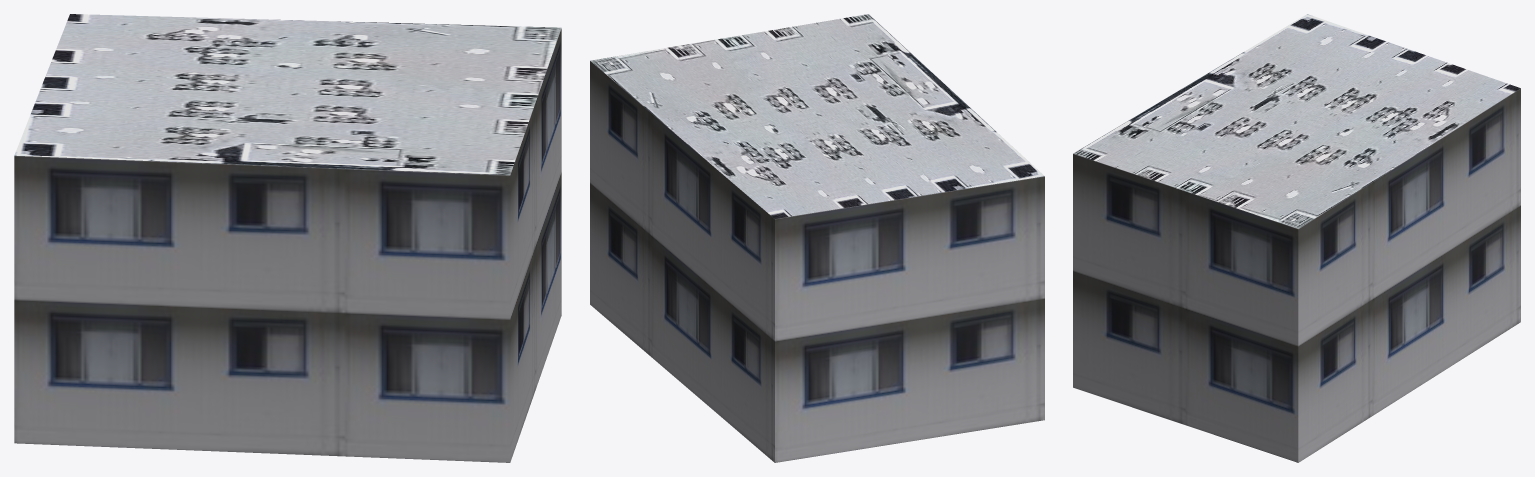
The model's file is ResTex__916.fbx.
3 views of the same model, side by side, from view 1: azimuth 30°, elevation 25°; view 2: azimuth 150°, elevation 25°; view 3: azimuth 270°, elevation 25° (orthographic). The views are drawn at different scales.
Parts seen in each view (by area): view 1: CityEngineMaterial_9_m, CityEngineMaterial_4_m; view 2: CityEngineMaterial_9_m, CityEngineMaterial_4_m; view 3: CityEngineMaterial_9_m, CityEngineMaterial_4_m.
Part boxes in pixels (left/top/right/bottom): CityEngineMaterial_9_m: left=14, top=28, right=561, bottom=462; CityEngineMaterial_4_m: left=14, top=14, right=561, bottom=175; CityEngineMaterial_9_m: left=590, top=61, right=1044, bottom=462; CityEngineMaterial_4_m: left=590, top=14, right=1044, bottom=218; CityEngineMaterial_9_m: left=1073, top=88, right=1520, bottom=462; CityEngineMaterial_4_m: left=1073, top=14, right=1520, bottom=228.
Size of the model in its own units: 11.83 by 6 by 10.41.
Materials: 2 (2 with a texture image).
